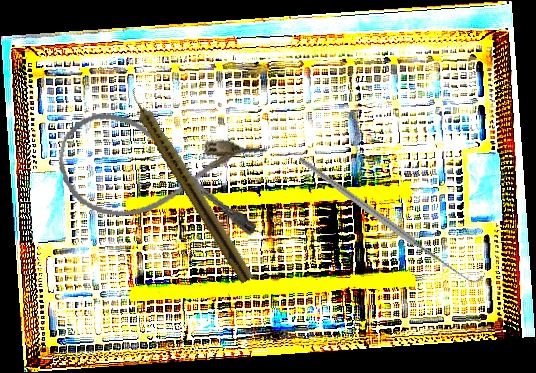Cannula: (49, 106, 272, 243)
Handpiece: (123, 84, 258, 285)
Hook Surgical: (296, 108, 485, 330)
